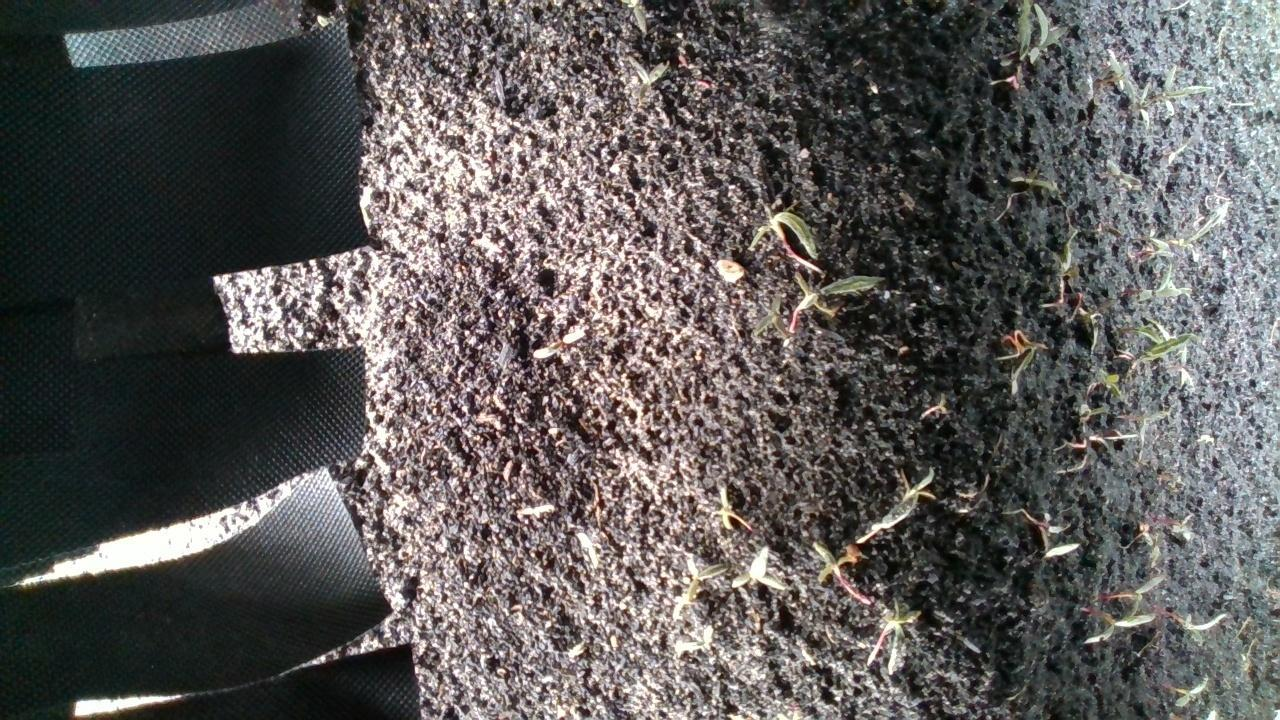weed: (996, 331, 1054, 396)
